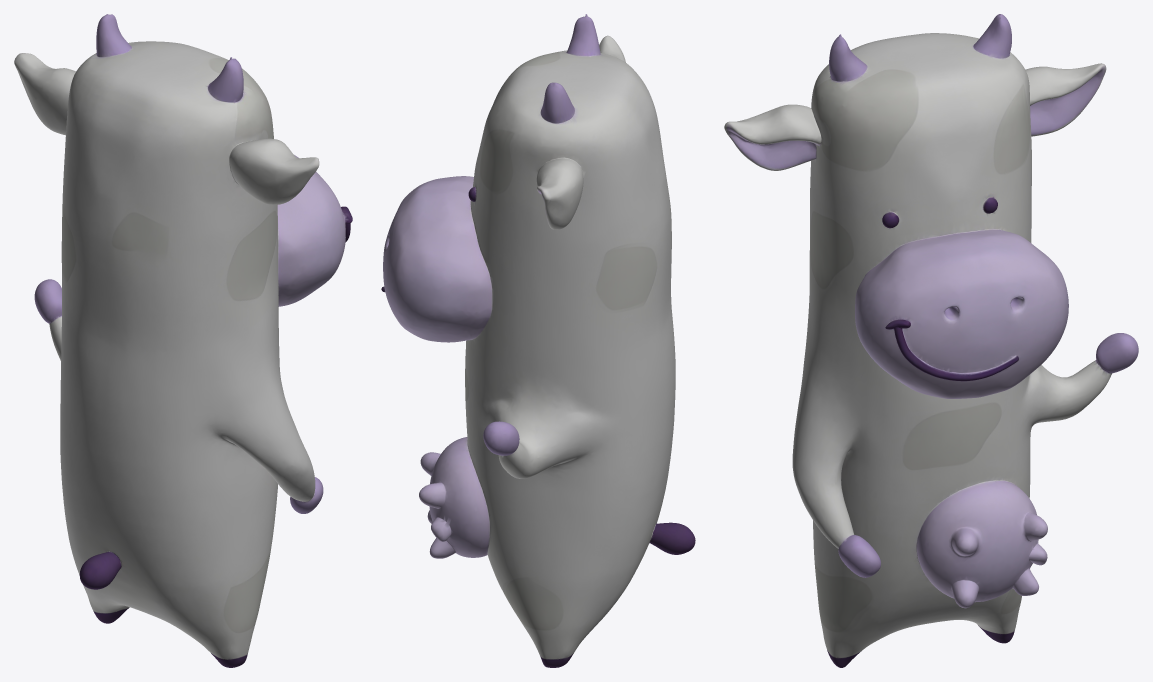
File: milkshake.glb
3 views of the same model, side by side, from view 1: azimuth 30°, elevation 25°; view 2: azimuth 150°, elevation 25°; view 3: azimuth 270°, elevation 25° (orthographic). The views are drawn at different scales.
Visible parts, largest first — view 1: tripo_node_e812d156-60f4-4b26-b748-273ff6625556; view 2: tripo_node_e812d156-60f4-4b26-b748-273ff6625556; view 3: tripo_node_e812d156-60f4-4b26-b748-273ff6625556.
Boxes of the visible parts, x1,y1,x2,y2 form: tripo_node_e812d156-60f4-4b26-b748-273ff6625556: [14, 14, 352, 667]; tripo_node_e812d156-60f4-4b26-b748-273ff6625556: [381, 14, 695, 667]; tripo_node_e812d156-60f4-4b26-b748-273ff6625556: [724, 14, 1138, 667].
Bounding box in the file's own units: 0.481 × 1 × 0.5964.
1 material, 1 textured.
